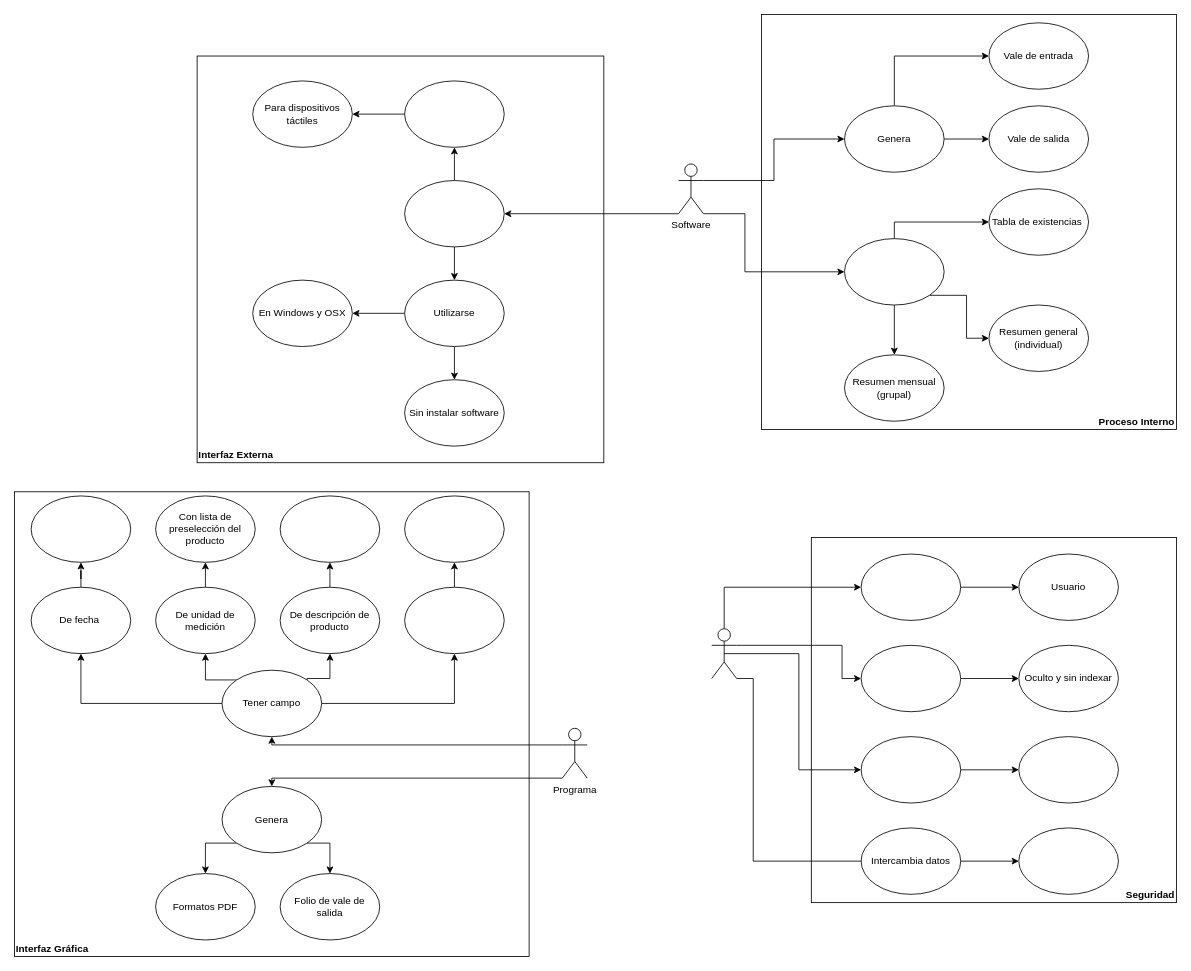
Image size: 1191x971. Some labels were removed from this diagram. Here are the shapes that lost their labels. From the top down, the centre of each, then its label:
At (454,113): "Optimizarse".
At (454,213): "Debe".
At (894,271): "Emite".
At (80,528): "Con fecha actual".
At (329,528): "Con clave de salida para cargar lista de preselección".
At (454,528): "Con lista de preselección".
At (910,586): "Ingresa por Microsoft".
At (454,620): "De área solicitante".
At (724,653): "Sistema".
At (910,678): "Se encuentra".
At (910,769): "Controlado".
At (1068,769): "Accseso".
At (1068,860): "Via in".
